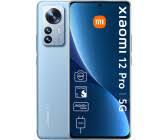Smartphone: (66, 2, 132, 136), (38, 4, 77, 139)
